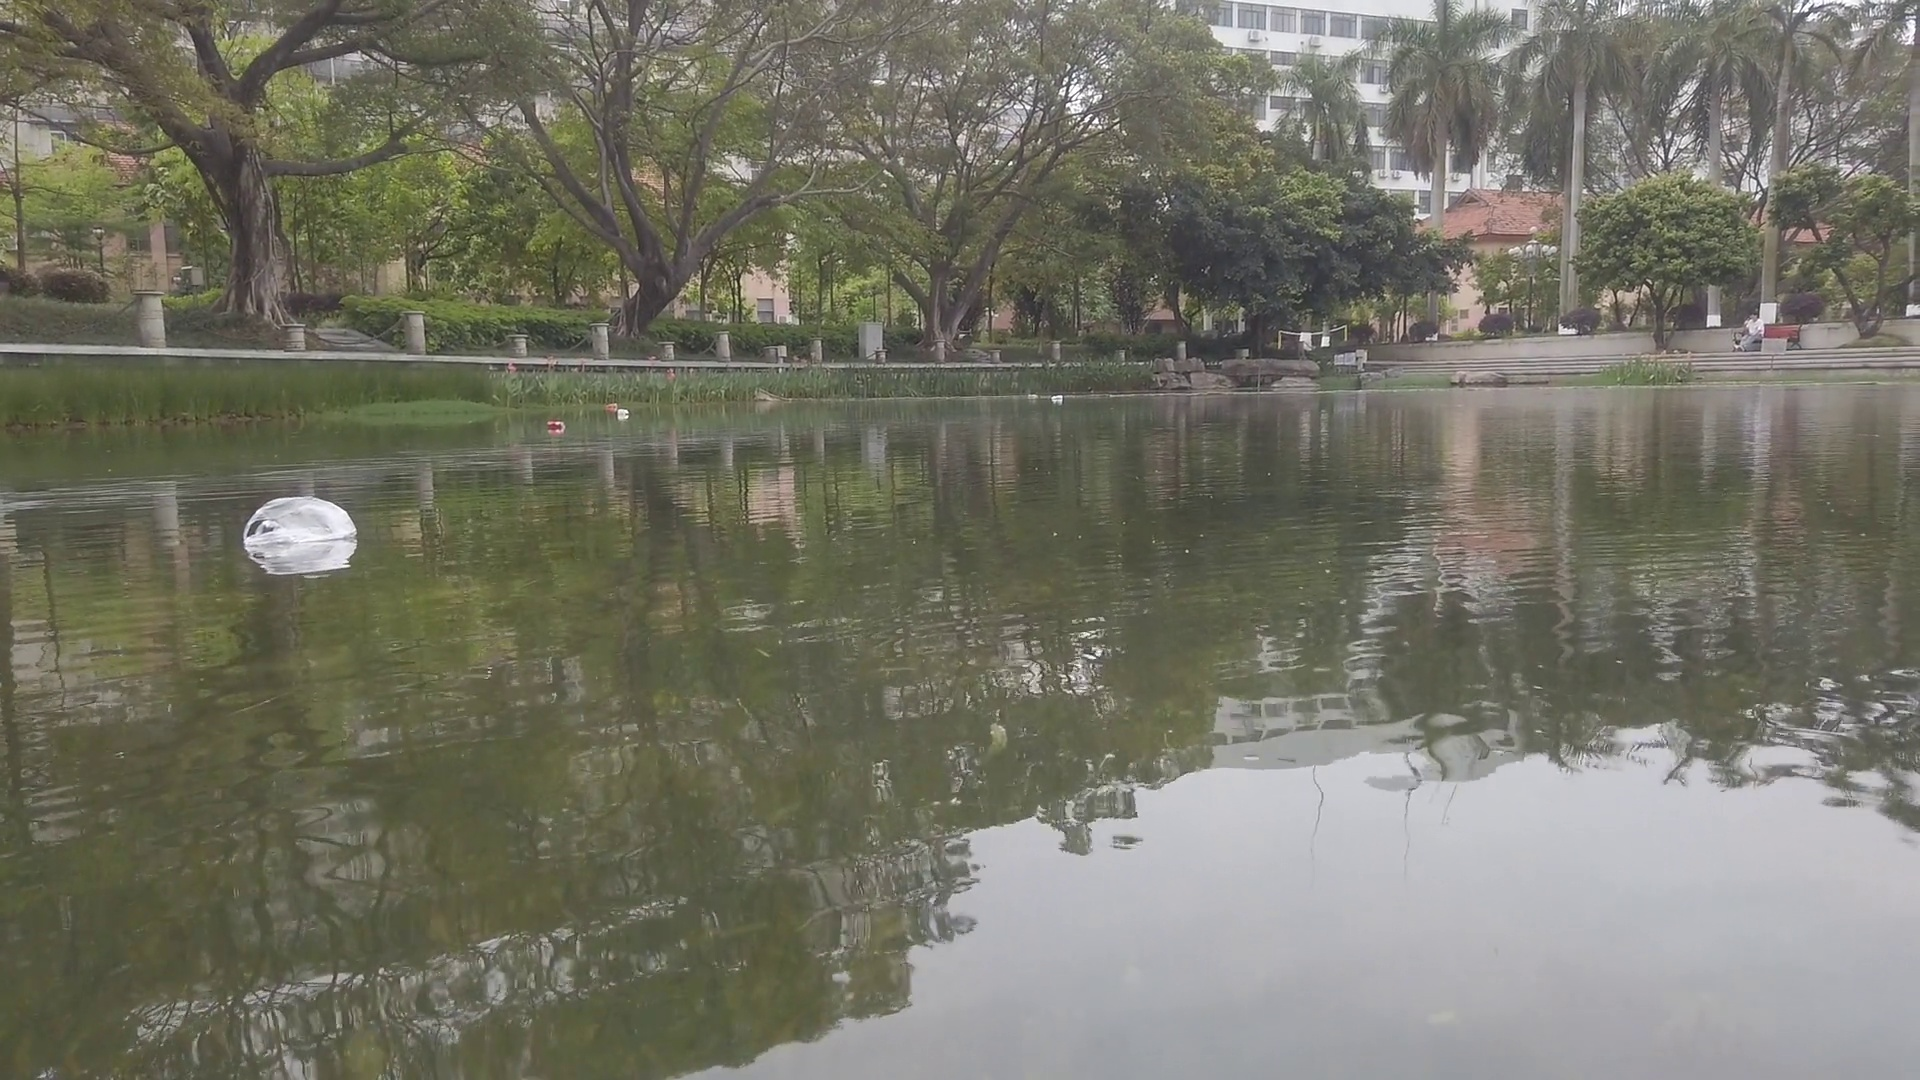bottle: (549, 422, 564, 430), (618, 407, 630, 417), (607, 404, 618, 411), (1027, 392, 1038, 400), (1051, 396, 1063, 402)
plastic: (245, 495, 359, 542)
